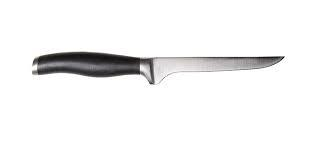Knife: (31, 50, 285, 84)
